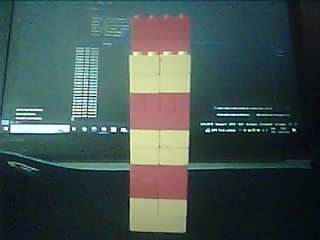lego: (128, 14, 191, 232)
